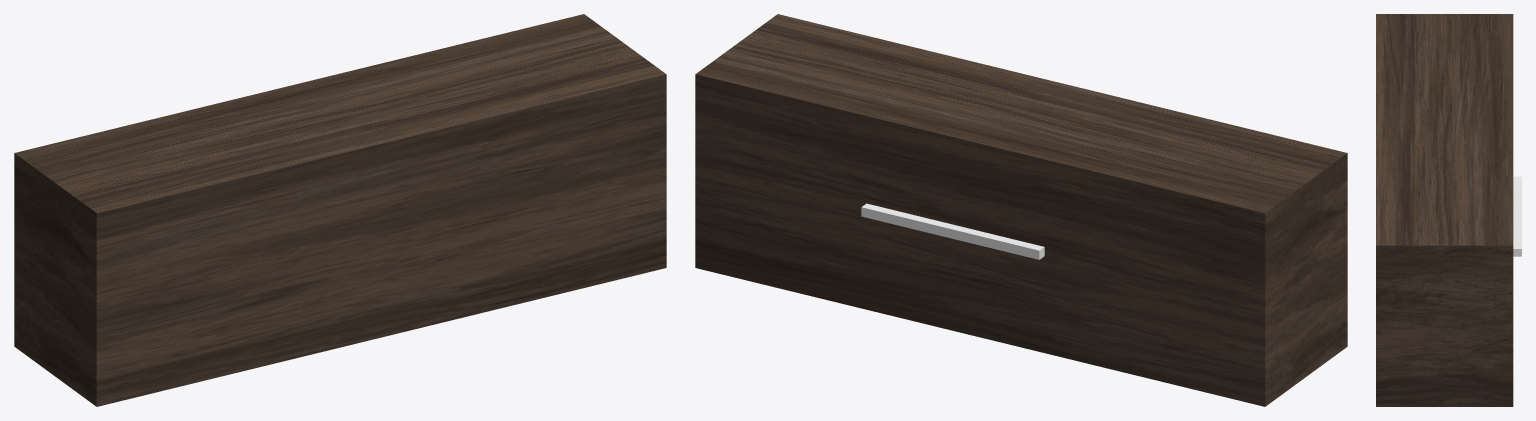
File: rack_2.obj
The picture shows the model from 3 angles, left to right: view 1: azimuth 30°, elevation 25°; view 2: azimuth 150°, elevation 25°; view 3: azimuth 270°, elevation 25°; orthographic projection. The views are drawn at different scales.
Parts seen in each view (by area): view 1: rack_2_Cube.029; view 2: rack_2_Cube.029, puxador_2_Cube.031; view 3: rack_2_Cube.029, puxador_2_Cube.031.
Part boxes in pixels (box(x1,y1,x2,y2)): rack_2_Cube.029: box(14, 14, 666, 406); rack_2_Cube.029: box(695, 14, 1347, 406); puxador_2_Cube.031: box(861, 203, 1044, 259); rack_2_Cube.029: box(1376, 14, 1513, 406); puxador_2_Cube.031: box(1513, 176, 1521, 256).
Bounding box in the file's own units: 4 × 1.3 × 1.06.
